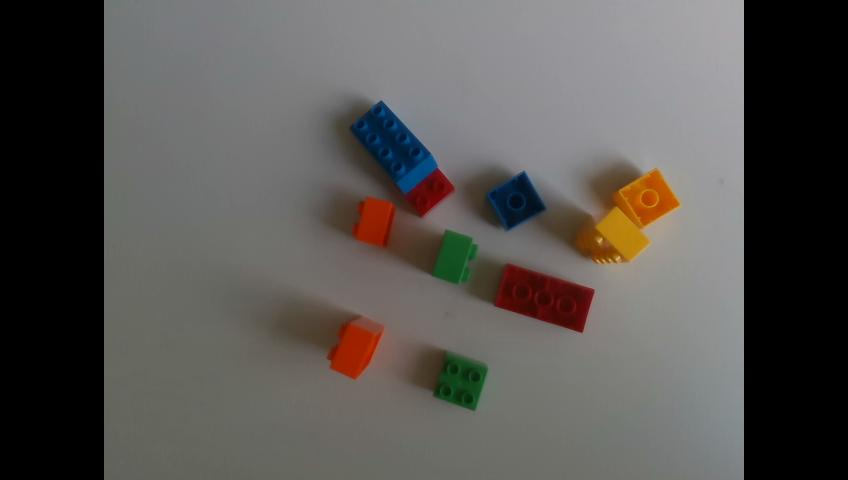2x2_blue: (487, 170, 547, 230)
2x2_green: (436, 351, 488, 410), (432, 228, 477, 284)
2x2_orange: (325, 315, 387, 379), (353, 194, 397, 246)
2x2_red: (404, 167, 455, 215)
2x2_yellow: (612, 167, 680, 227)
4x2_blue: (351, 98, 436, 192)
4x2_red: (496, 264, 593, 332)
4x2_yellow: (576, 207, 651, 263)
